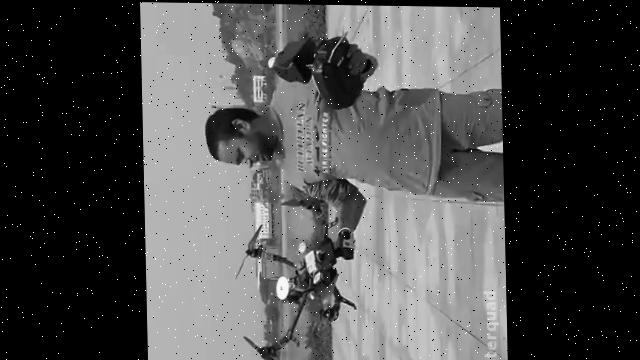drone: (230, 193, 361, 360)
